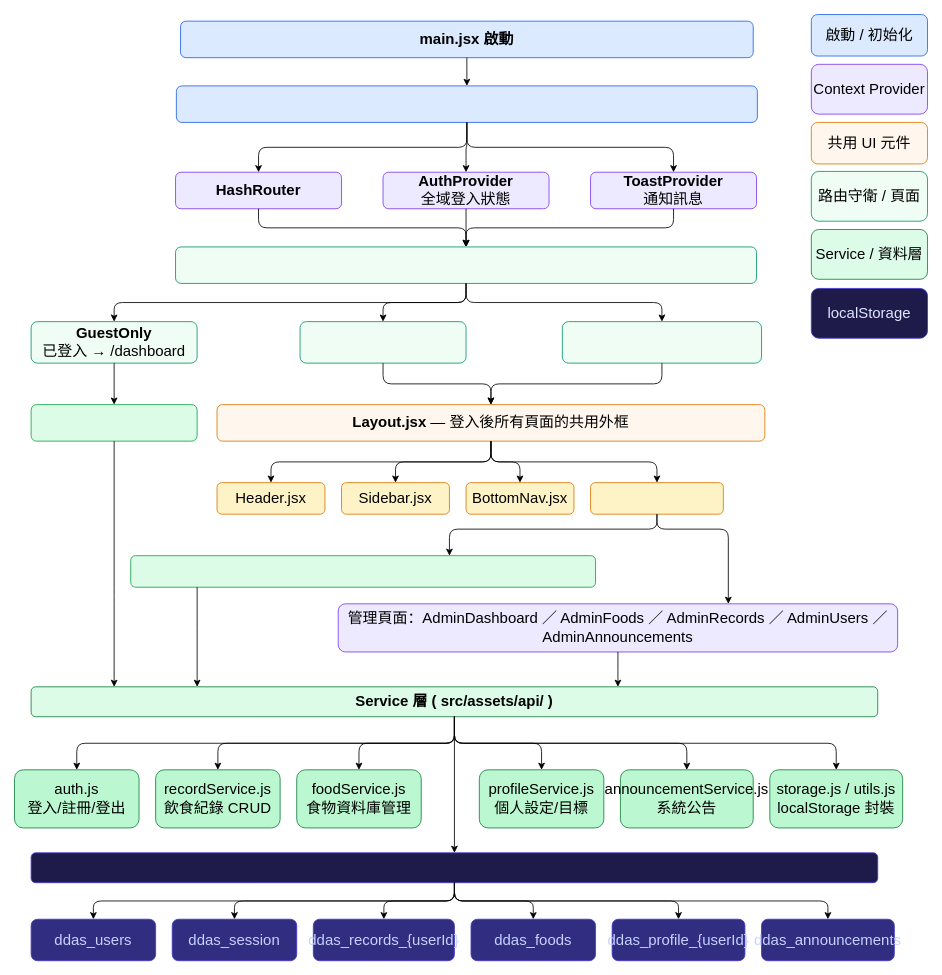
This 942x975 diagram has some shape labels left out. The shapes that lost their labels are listed below. From the top down, each one's box as (x1, y1, x2, y2) in pixels, then its label:
(176, 85, 757, 122): 初始化示範資料（首次載入）
(175, 246, 757, 283): AppRoutes — 路由分發 （ / 自動導向 /login 或 /dashboard）
(299, 321, 466, 363): RequireAuth 未登入 → /login
(561, 321, 762, 363): RequireAdmin 非 admin → /dashboard
(30, 404, 197, 441): Login.jsx Register.jsx
(590, 482, 723, 514): 頁面內容
(130, 555, 596, 587): 一般頁面：Dashboard ／ FoodSearch ／ Report ／ Settings
(30, 852, 878, 883): localStorage （瀏覽器本地儲存，7 天自動過期）
